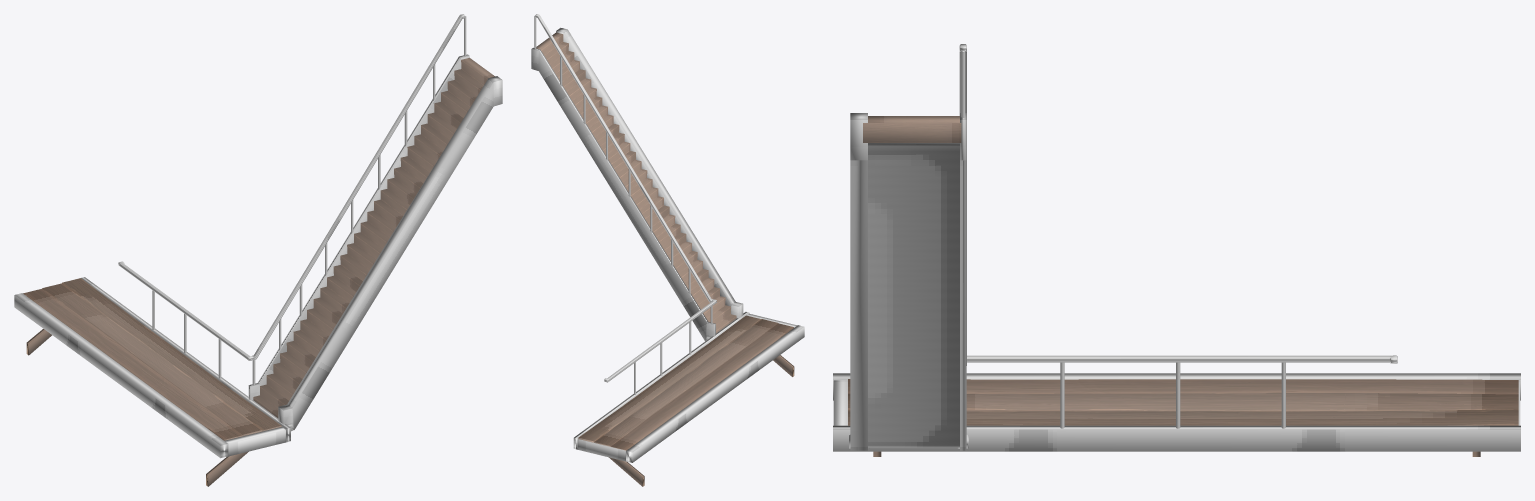
File: SM_StairsCombinedBack.fbx
3 renders of one model, left to right at view 1: azimuth 30°, elevation 25°; view 2: azimuth 150°, elevation 25°; view 3: azimuth 270°, elevation 25°, orthographic. The views are drawn at different scales.
Visible parts, largest first — view 1: SM_StairsCombinedBack; view 2: SM_StairsCombinedBack; view 3: SM_StairsCombinedBack.
Boxes of the visible parts, box(x1,y1,x2,y2) form: SM_StairsCombinedBack: box(14, 14, 502, 486); SM_StairsCombinedBack: box(531, 14, 804, 486); SM_StairsCombinedBack: box(833, 44, 1520, 456).
Bounding box in the file's own units: 813 × 1010 × 1038.
